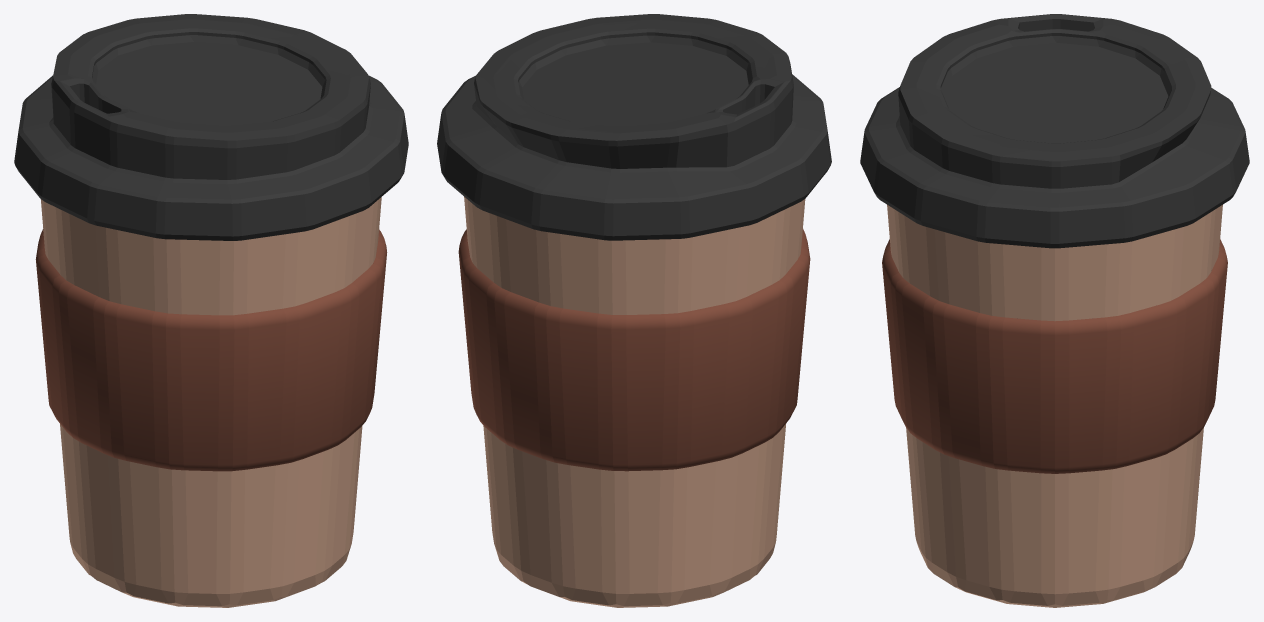
The model's file is Coffee_cup_1_partyassets.fbx.
3 renders of one model, left to right at view 1: azimuth 30°, elevation 25°; view 2: azimuth 150°, elevation 25°; view 3: azimuth 270°, elevation 25°, orthographic. The views are drawn at different scales.
Visible parts, largest first — view 1: Cube.045, Coffee_cup_1_partyassets, Cube.046; view 2: Cube.045, Coffee_cup_1_partyassets, Cube.046; view 3: Cube.045, Coffee_cup_1_partyassets, Cube.046.
Part boxes in pixels (x1,y1,x2,y2): Cube.045: (14, 14, 408, 240); Coffee_cup_1_partyassets: (40, 197, 381, 607); Cube.046: (35, 229, 387, 471); Cube.045: (437, 14, 831, 240); Coffee_cup_1_partyassets: (464, 196, 805, 607); Cube.046: (458, 229, 810, 471); Cube.045: (860, 14, 1249, 248); Coffee_cup_1_partyassets: (887, 205, 1222, 607); Cube.046: (882, 239, 1227, 473).
Size of the model in its own units: 12.61 by 17.05 by 12.61.
